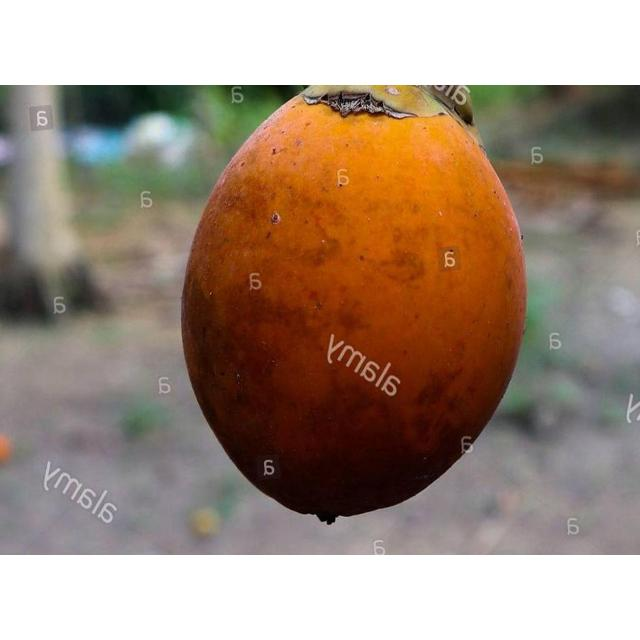good: (180, 85, 528, 526)
